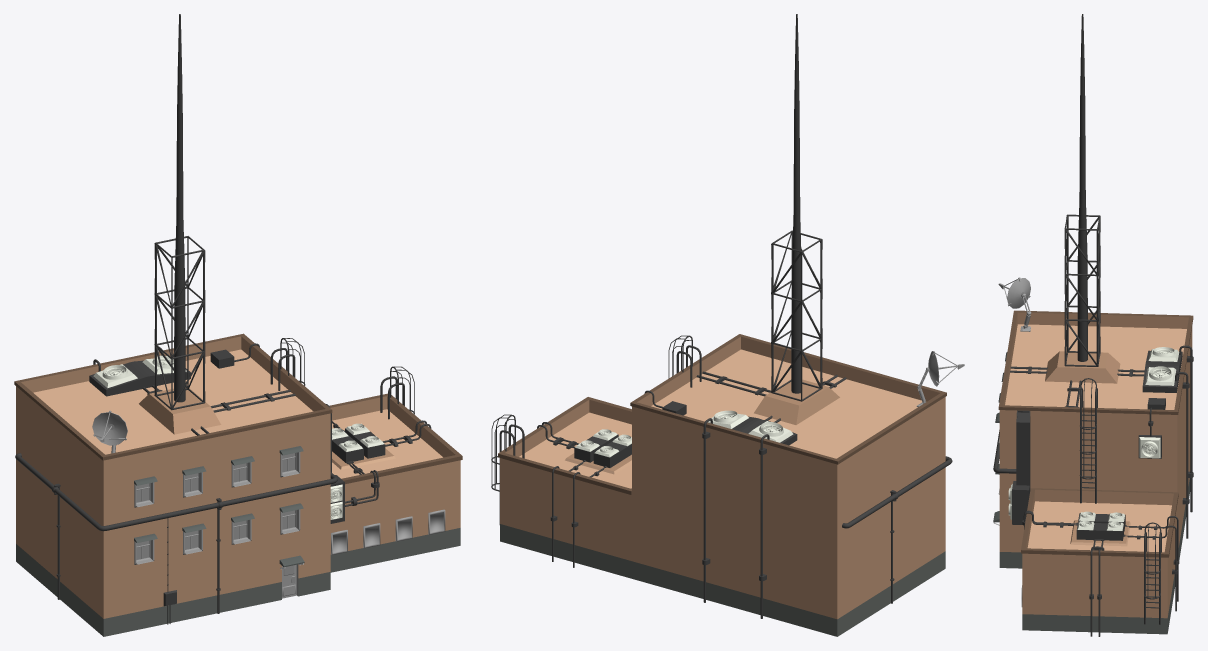
File: estructura.glb
3 renders of one model, left to right at view 1: azimuth 30°, elevation 25°; view 2: azimuth 150°, elevation 25°; view 3: azimuth 270°, elevation 25°, orthographic. The views are drawn at different scales.
Visible parts, largest first — view 1: Plane; view 2: Plane; view 3: Plane.
Boxes of the visible parts, left/top/right/bottom form: Plane: left=14, top=14, right=462, bottom=636; Plane: left=491, top=14, right=964, bottom=636; Plane: left=993, top=14, right=1193, bottom=636.
Bounding box in the file's own units: 25.46 × 34.8 × 12.38.
